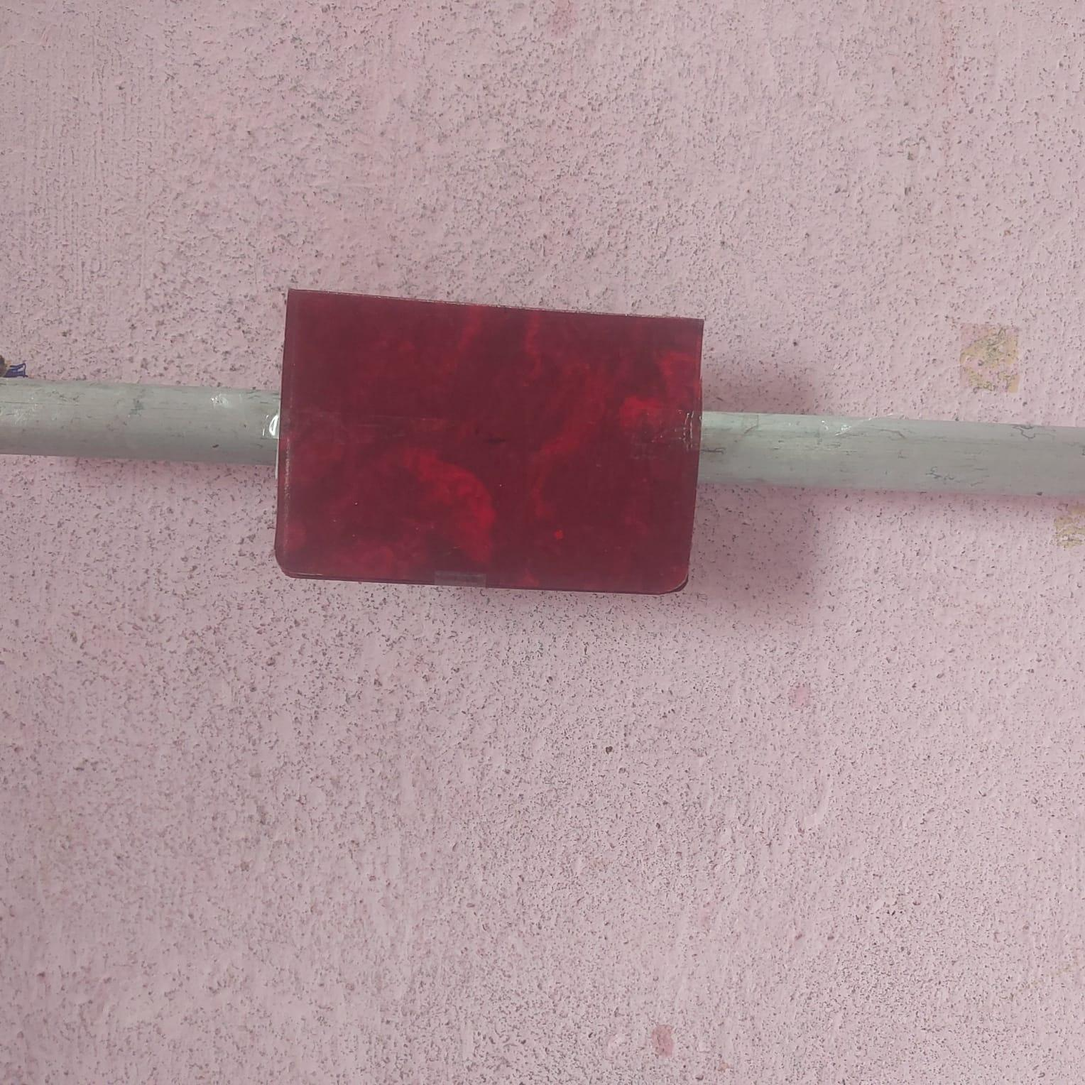wallet: (267, 274, 708, 599)
